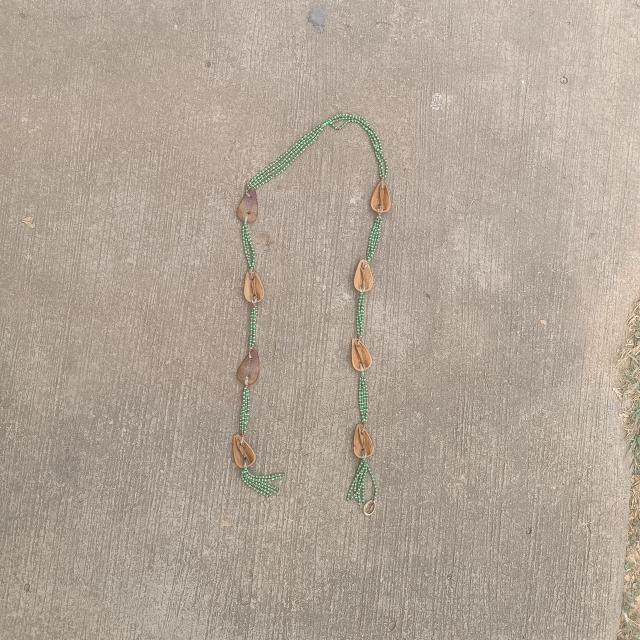facedown: (233, 180, 265, 226), (232, 345, 262, 390)
faceup: (228, 427, 259, 475), (350, 328, 375, 377), (351, 251, 376, 299), (240, 265, 266, 311), (351, 419, 376, 464), (369, 174, 393, 217)
